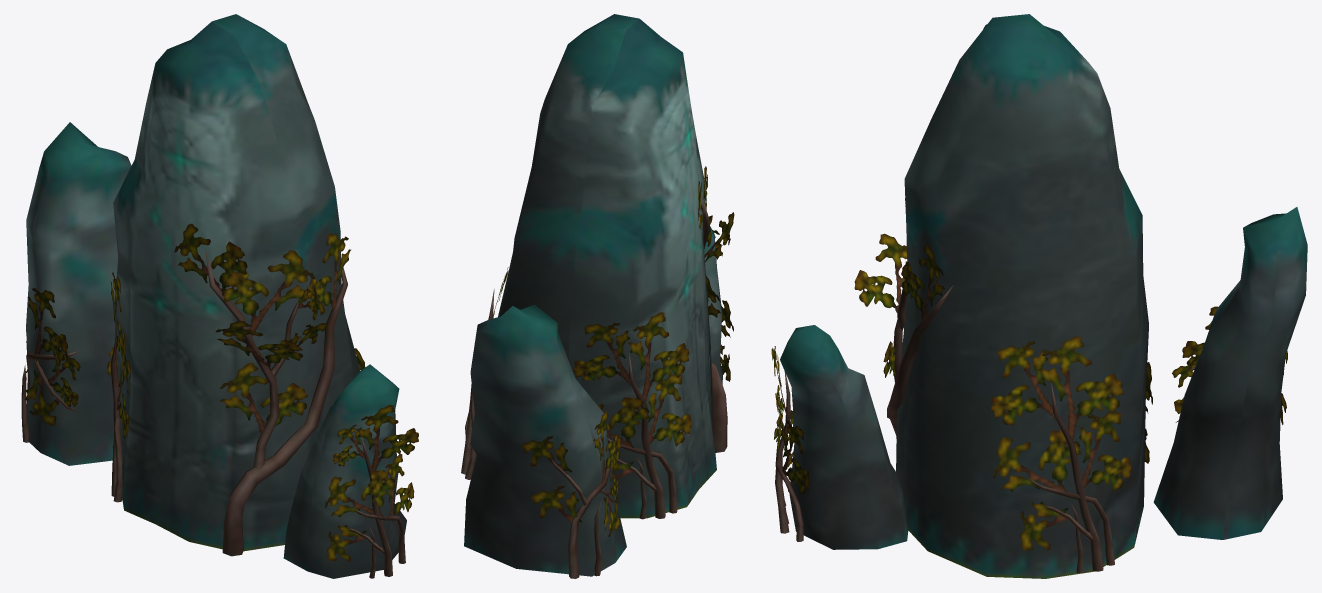
The model's file is Battle01_DemoStone_02.FBX.
The picture shows the model from 3 angles, left to right: view 1: azimuth 30°, elevation 25°; view 2: azimuth 150°, elevation 25°; view 3: azimuth 270°, elevation 25°; orthographic projection. The views are drawn at different scales.
Parts seen in each view (by area): view 1: C01_DemoStone_02, C01_DemoStone_02_ncl1_1; view 2: C01_DemoStone_02, C01_DemoStone_02_ncl1_1; view 3: C01_DemoStone_02, C01_DemoStone_02_ncl1_1.
Part boxes in pixels (bbox=[...]): C01_DemoStone_02: bbox=[21, 14, 406, 578]; C01_DemoStone_02_ncl1_1: bbox=[24, 223, 418, 561]; C01_DemoStone_02: bbox=[461, 14, 727, 578]; C01_DemoStone_02_ncl1_1: bbox=[492, 166, 734, 536]; C01_DemoStone_02: bbox=[775, 14, 1307, 578]; C01_DemoStone_02_ncl1_1: bbox=[771, 198, 1287, 550].
Size of the model in its own units: 1.52 by 2.92 by 2.92.
